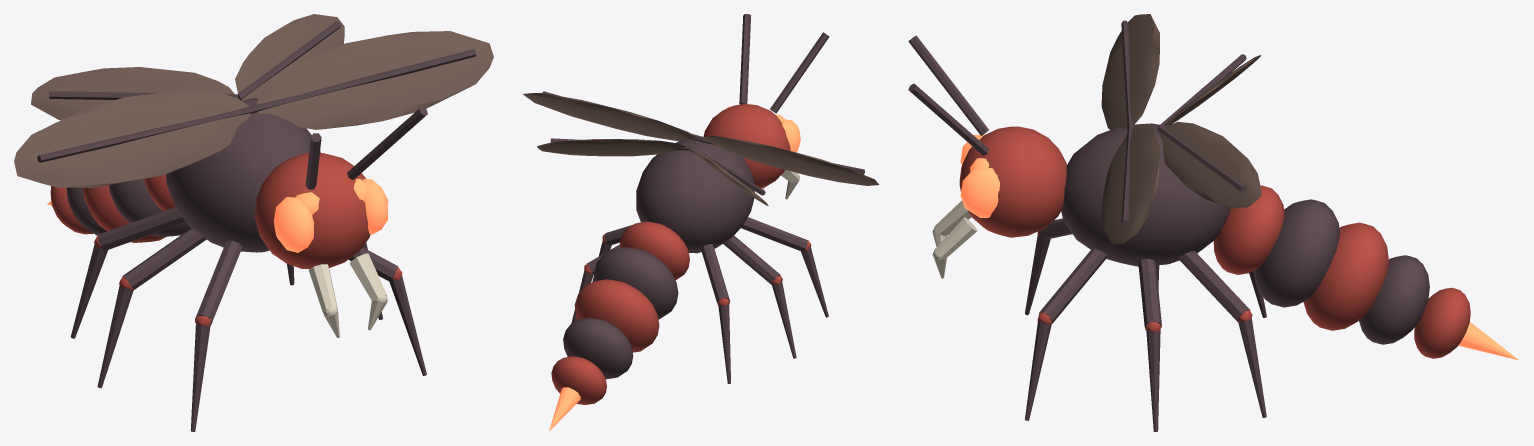
The model's file is Wasp.glb.
3 views of the same model, side by side, from view 1: azimuth 30°, elevation 25°; view 2: azimuth 150°, elevation 25°; view 3: azimuth 270°, elevation 25° (orthographic). The views are drawn at different scales.
Parts seen in each view (by area): view 1: Wasp; view 2: Wasp; view 3: Wasp.
Part boxes in pixels (bbox=[...]): Wasp: bbox=[14, 14, 493, 431]; Wasp: bbox=[523, 14, 878, 431]; Wasp: bbox=[908, 14, 1518, 431].
Size of the model in its own units: 0.7123 by 0.465 by 0.8382.
